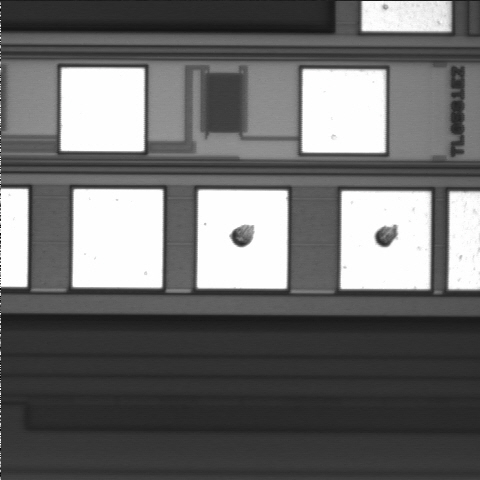pad: (197, 190, 288, 289), (73, 189, 163, 288), (341, 191, 431, 289), (302, 69, 385, 153), (61, 68, 144, 151)
